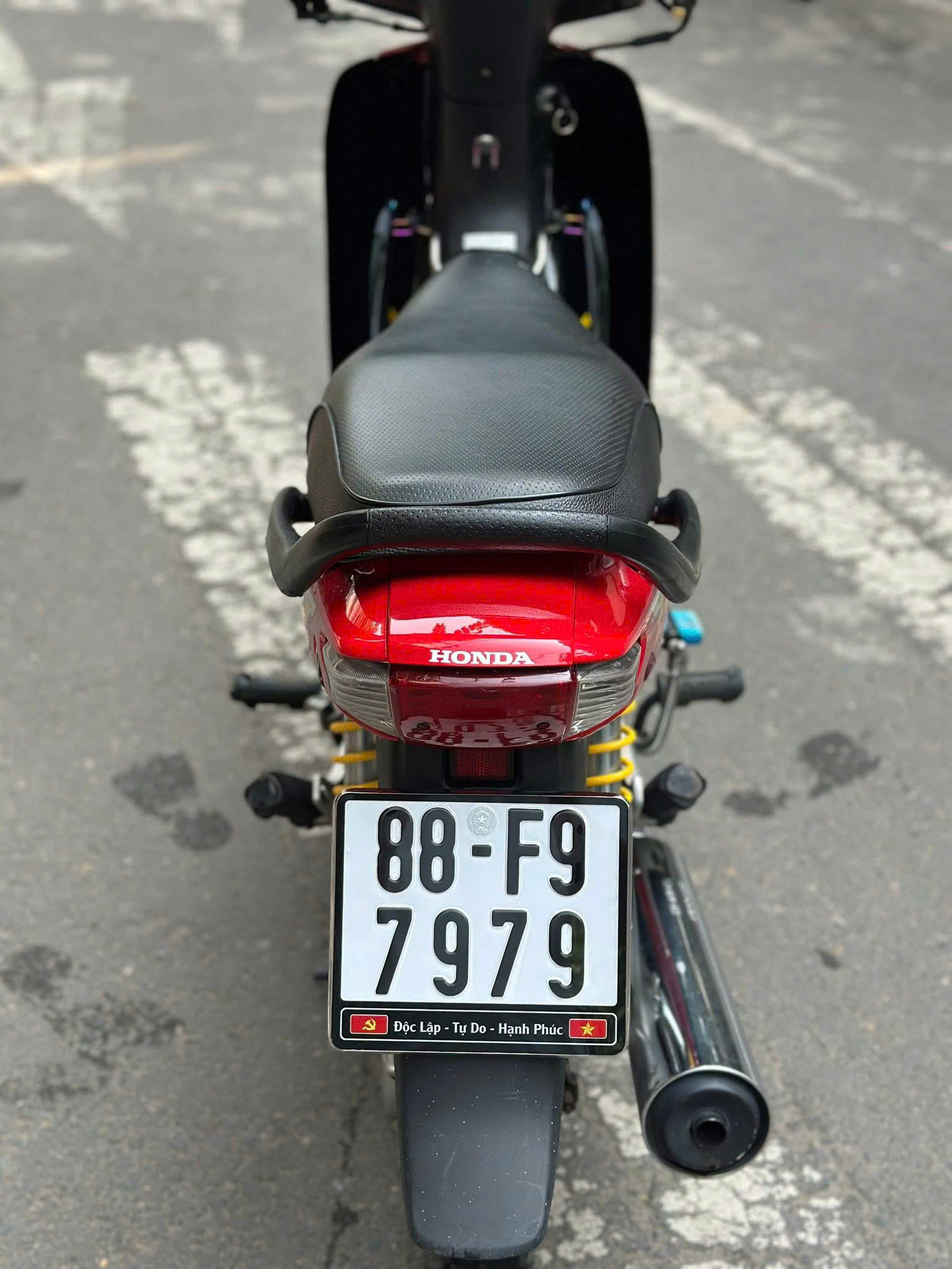Bien-so: (338, 798, 627, 1006)
